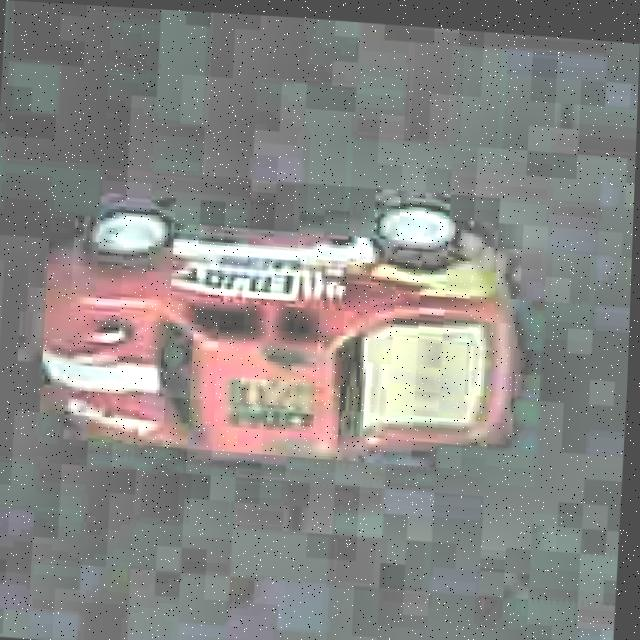car: (31, 164, 530, 483)
